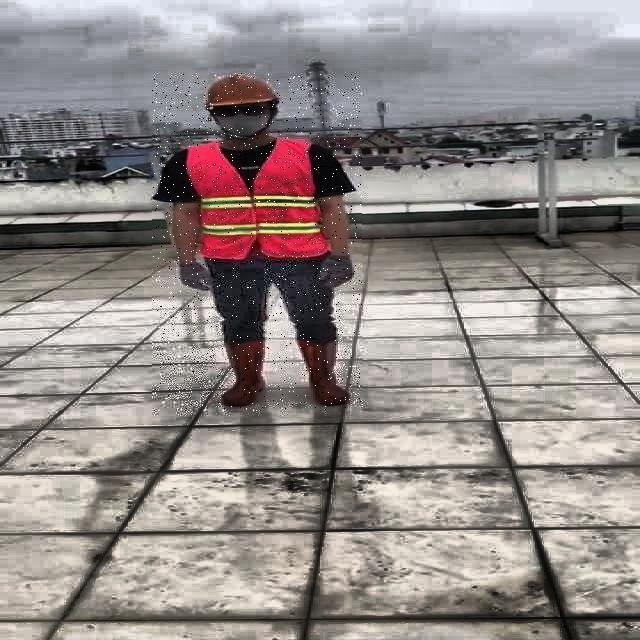safety_helmet: (202, 75, 280, 108)
safety_jacket: (183, 140, 325, 258)
